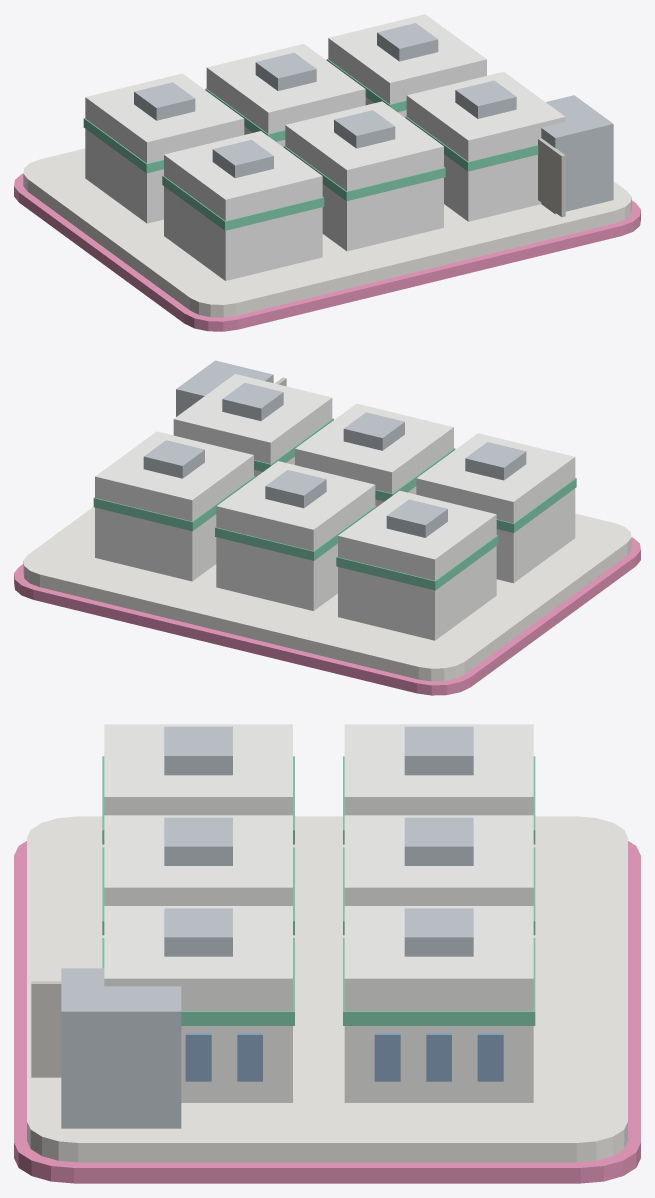
File: storage.glb
3 views of the same model, one above another, from view 1: azimuth 30°, elevation 25°; view 2: azimuth 150°, elevation 25°; view 3: azimuth 270°, elevation 25° (orthographic). The views are drawn at different scales.
Visible parts, largest first — view 1: battery, base, metal, rim_e0588f, battery_accent, concrete_dark; view 2: battery, base, metal, rim_e0588f, battery_accent; view 3: battery, base, metal, rim_e0588f, battery_accent, window, concrete_dark.
Part boxes in pixels (box(x1,y1,x2,y2)): battery: box(85, 14, 565, 280); base: box(23, 148, 631, 317); metal: box(134, 23, 613, 214); rim_e0588f: box(14, 173, 640, 331); battery_accent: box(83, 59, 538, 230); concrete_dark: box(538, 138, 565, 216); battery: box(95, 374, 575, 640); base: box(23, 507, 631, 681); metal: box(143, 360, 526, 537); rim_e0588f: box(14, 537, 640, 695); battery_accent: box(93, 418, 576, 590); battery: box(104, 724, 533, 1102); base: box(27, 816, 627, 1162); metal: box(61, 726, 473, 1128); rim_e0588f: box(14, 841, 640, 1183); battery_accent: box(102, 756, 535, 1025); window: box(185, 1033, 503, 1081); concrete_dark: box(31, 981, 61, 1077).
Size of the model in its own units: 9.3 by 2.3 by 7.3.
